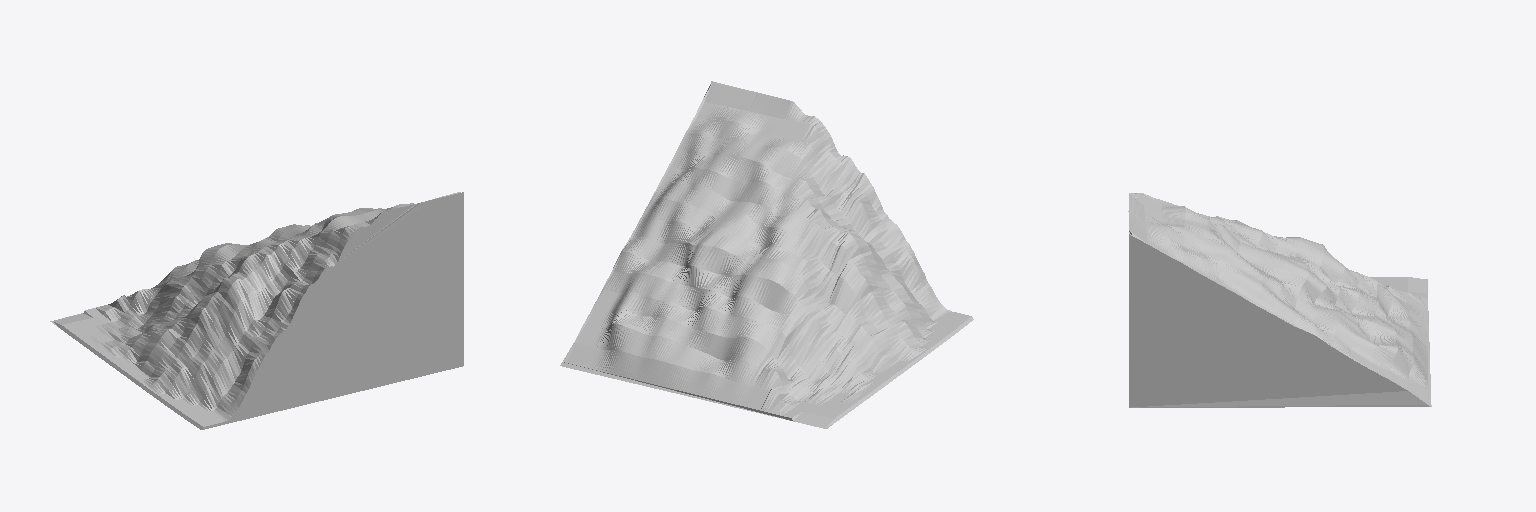
The model's file is B1Cliff.obj.
The picture shows the model from 3 angles: view 1: azimuth 30°, elevation 25°; view 2: azimuth 150°, elevation 25°; view 3: azimuth 270°, elevation 25°; orthographic projection.
Parts seen in each view (by area): view 1: Cliff_Segment_1_Landscape.016; view 2: Cliff_Segment_1_Landscape.016; view 3: Cliff_Segment_1_Landscape.016.
Boxes of the visible parts, <box> form: Cliff_Segment_1_Landscape.016: <box>50,192,463,429</box>; Cliff_Segment_1_Landscape.016: <box>560,81,973,428</box>; Cliff_Segment_1_Landscape.016: <box>1128,193,1431,407</box>.
Size of the model in its own units: 2.02 by 1.27 by 2.